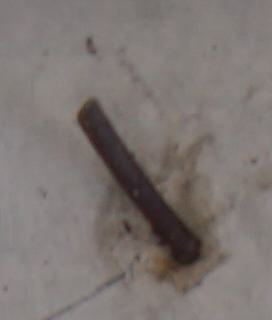Exposed reinforcement: (76, 97, 201, 265)
